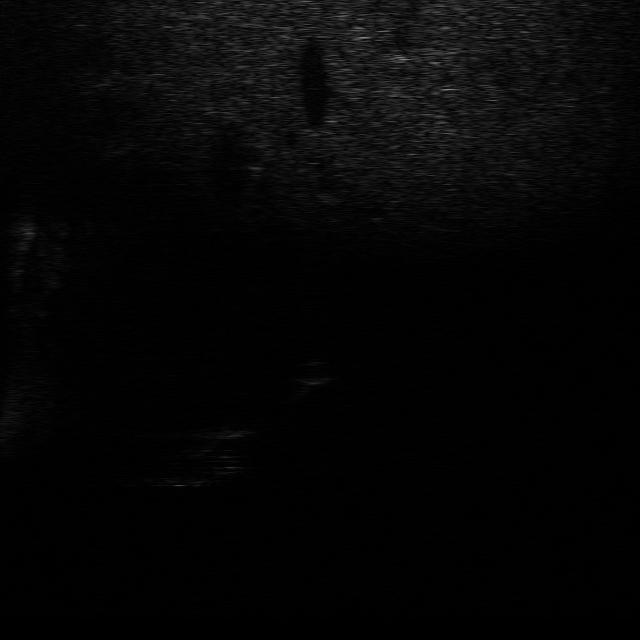ball: (279, 354, 346, 391)
square cage: (182, 414, 256, 447)
tyre: (142, 450, 248, 489)
